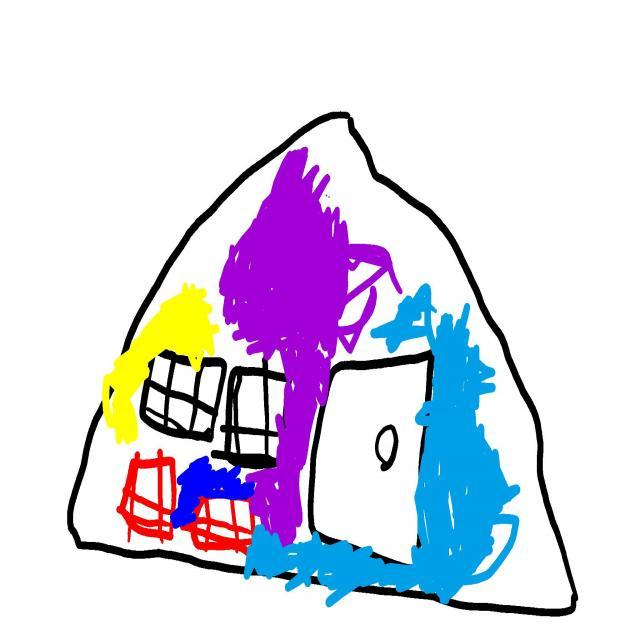door: (311, 351, 433, 564)
house: (68, 112, 577, 617)
window: (139, 351, 227, 443), (211, 361, 285, 469), (116, 451, 176, 544), (181, 500, 255, 555)
